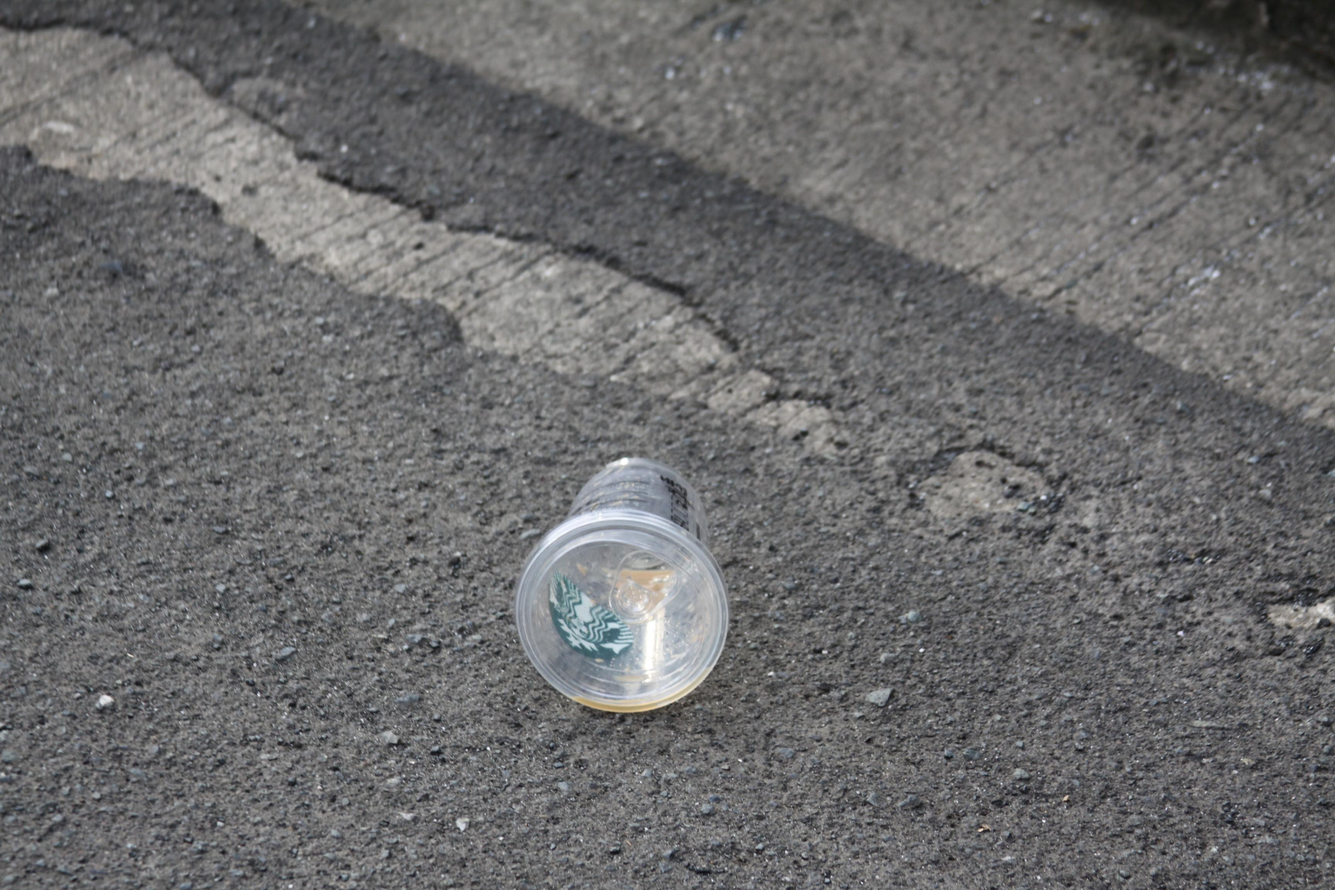Plastic: (510, 452, 734, 718)
